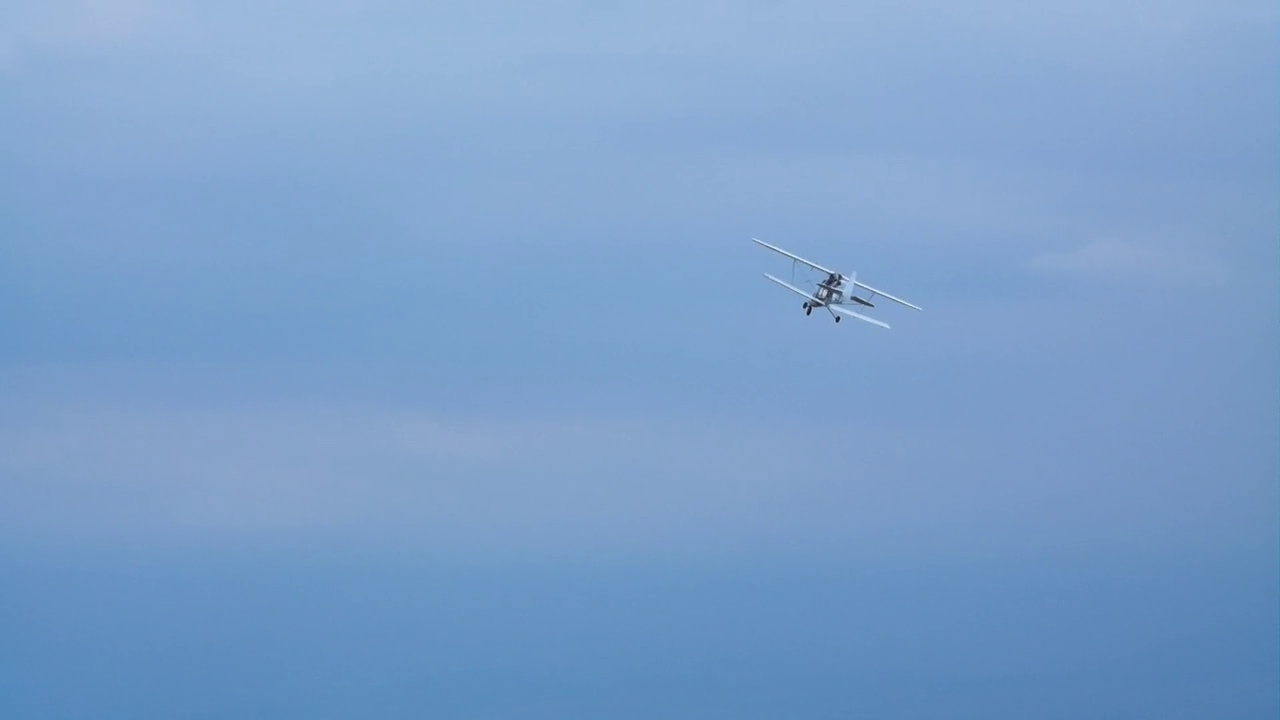plane: (752, 235, 923, 329)
